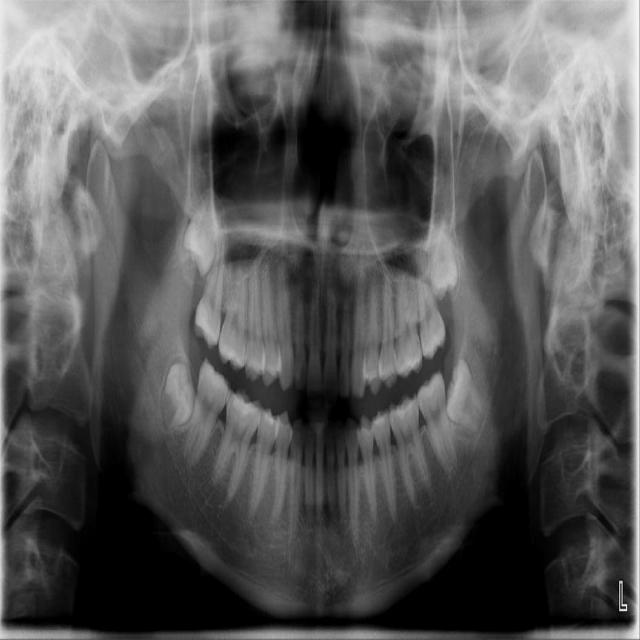Filling: (230, 395, 259, 418), (392, 400, 411, 420), (373, 411, 390, 428)
